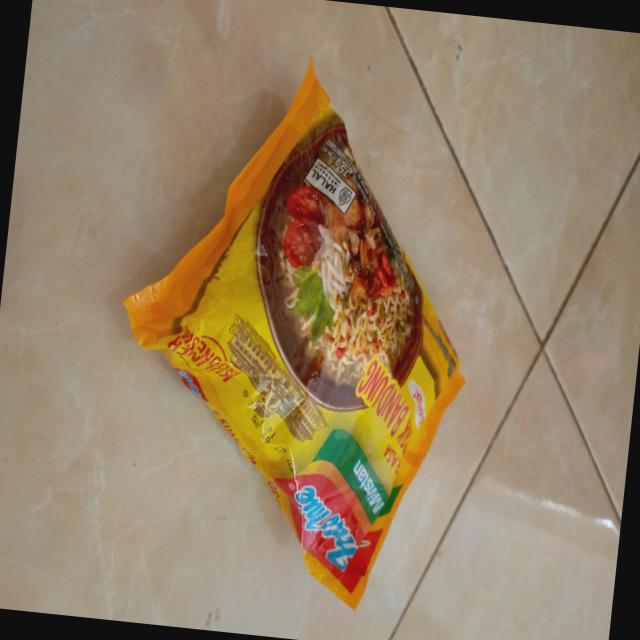indomie-mie-kocok-bandung: (91, 38, 502, 622)
